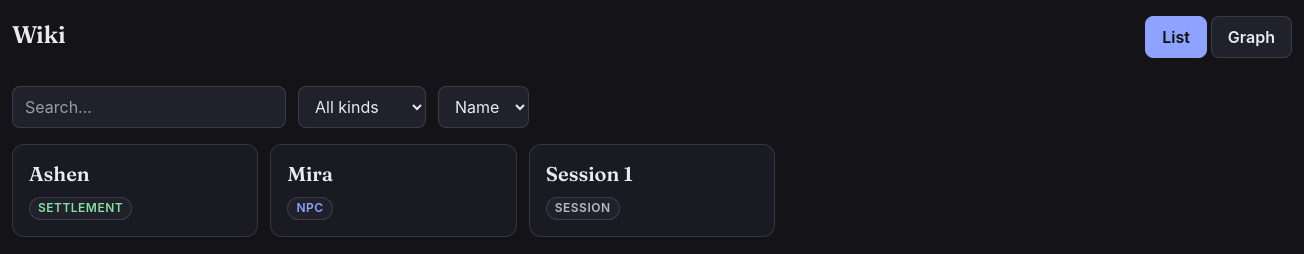
Test: WikiPage list › filters by kind
The image size is (1304, 254).
Expected: the text "Mira" is shown, [287,161,333,186]
Select "Session" in the dropdown named "Filter by kind" at (362, 107), box [298,86,426,128]
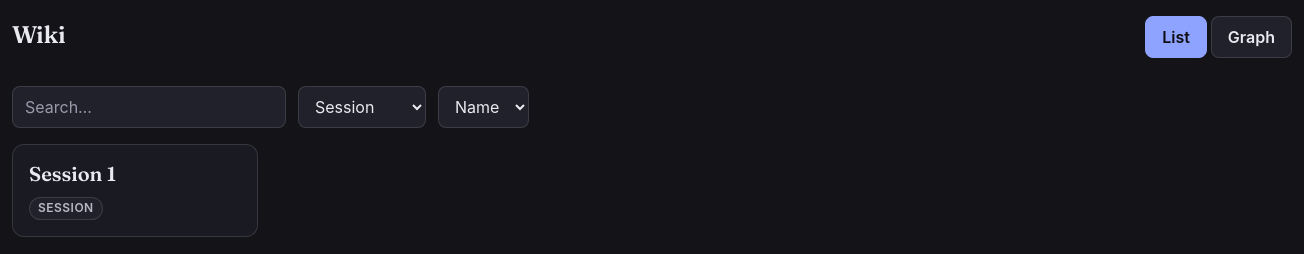
Expected: the text "Session 1" is shown, [29,161,116,186]
Expected: the link "Mira" is gone
